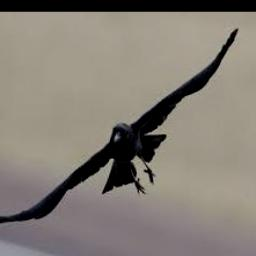Crow: (0, 26, 240, 225)
